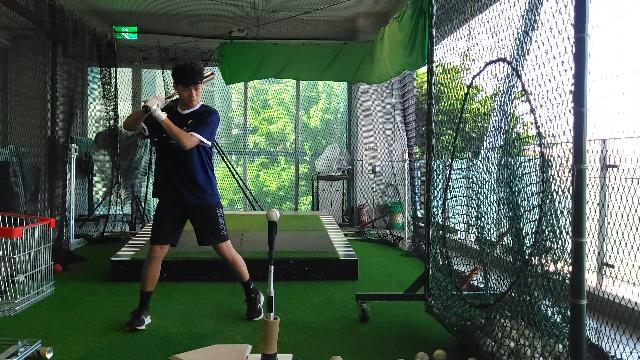ball: (266, 208, 282, 222)
bat: (166, 70, 217, 100)
